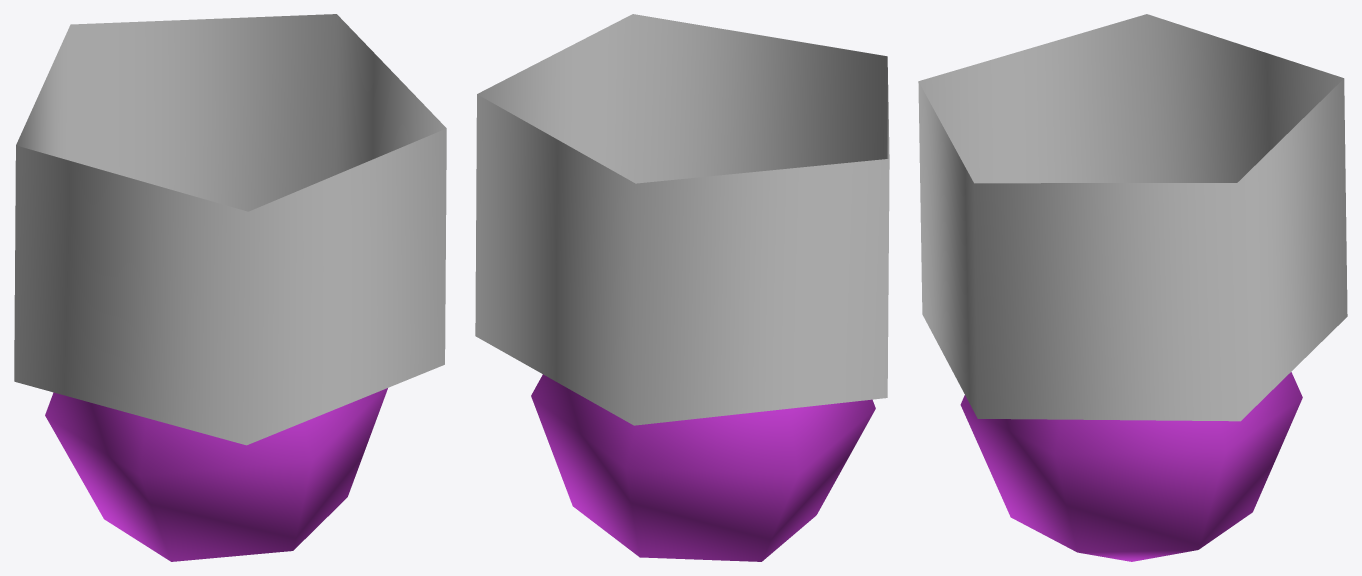
Rendered from thumb_proximal.gltf.
The picture shows the model from 3 angles, left to right: view 1: azimuth 30°, elevation 25°; view 2: azimuth 150°, elevation 25°; view 3: azimuth 270°, elevation 25°; orthographic projection.
Parts seen in each view (by area): view 1: LEFT_THUMB_PROXIMAL; view 2: LEFT_THUMB_PROXIMAL; view 3: LEFT_THUMB_PROXIMAL.
Part boxes in pixels (x1,y1,x2,y2): LEFT_THUMB_PROXIMAL: (14, 14, 446, 561); LEFT_THUMB_PROXIMAL: (475, 14, 889, 561); LEFT_THUMB_PROXIMAL: (918, 14, 1347, 561).
Bounding box in the file's own units: 0.0287 × 0.0347 × 0.0294.
